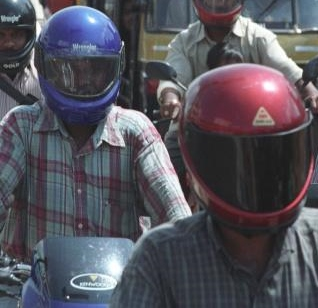helmet: (183, 60, 308, 218), (31, 9, 127, 115)
